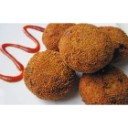cutlet: (26, 50, 75, 99), (60, 24, 111, 71), (79, 70, 126, 104), (44, 23, 82, 49)
